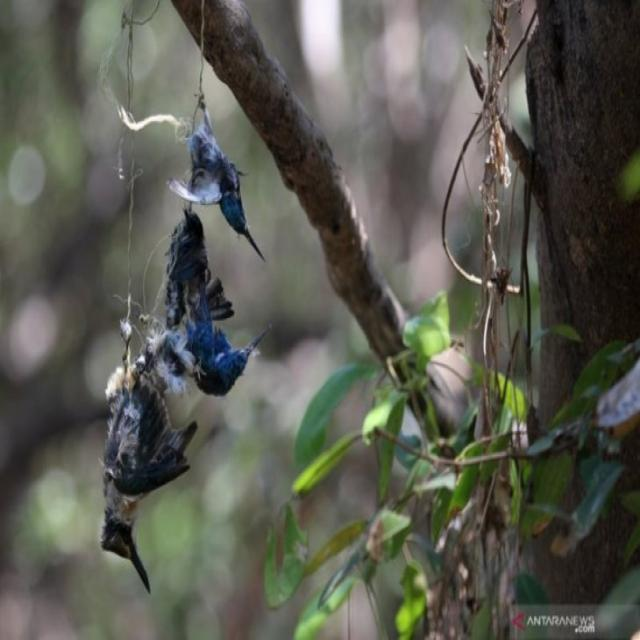Bangkai Burung: (76, 340, 221, 574), (132, 199, 268, 388), (154, 92, 270, 250)
